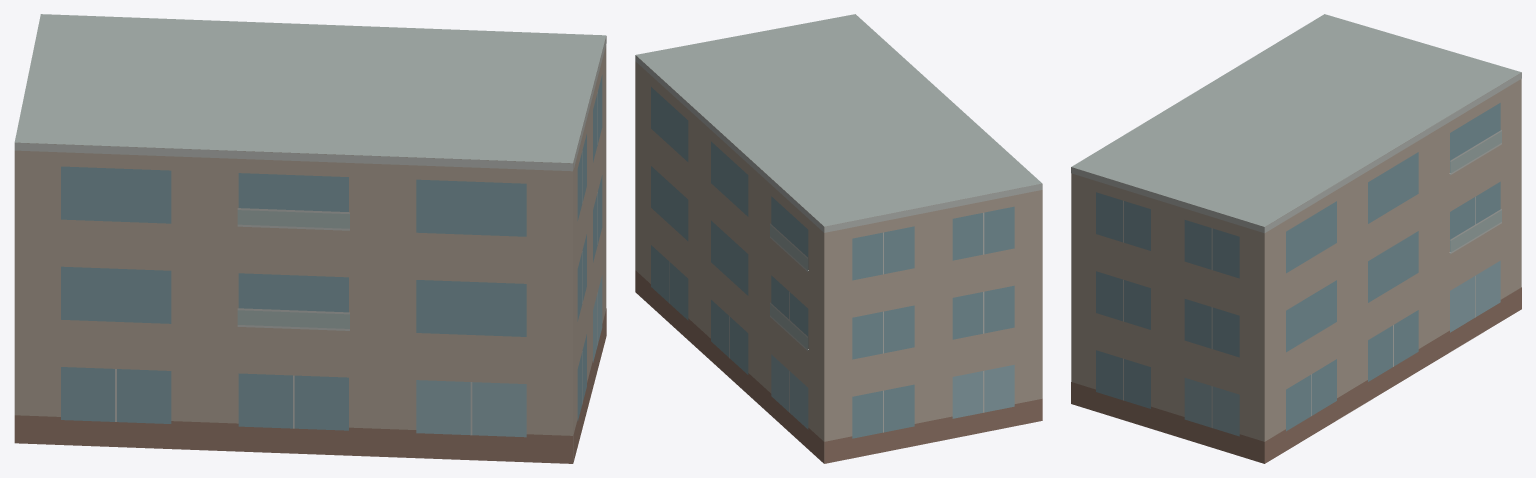
File: survey-upis-32810895.glb
The picture shows the model from 3 angles, left to right: view 1: azimuth 30°, elevation 25°; view 2: azimuth 150°, elevation 25°; view 3: azimuth 270°, elevation 25°; orthographic projection. The views are drawn at different scales.
Parts seen in each view (by area): view 1: survey-upis-32810895.tmp; view 2: survey-upis-32810895.tmp; view 3: survey-upis-32810895.tmp.
Part boxes in pixels (left/top/right/bottom): survey-upis-32810895.tmp: left=14, top=14, right=606, bottom=463; survey-upis-32810895.tmp: left=635, top=14, right=1042, bottom=463; survey-upis-32810895.tmp: left=1071, top=14, right=1521, bottom=463.
Bounding box in the file's own units: 17.65 × 9.15 × 15.78.
